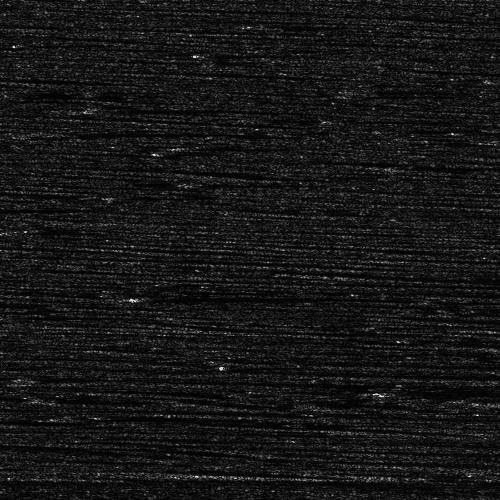rock: (33, 414, 106, 419), (347, 390, 388, 395)
shadow: (368, 390, 500, 395), (70, 414, 197, 419)
